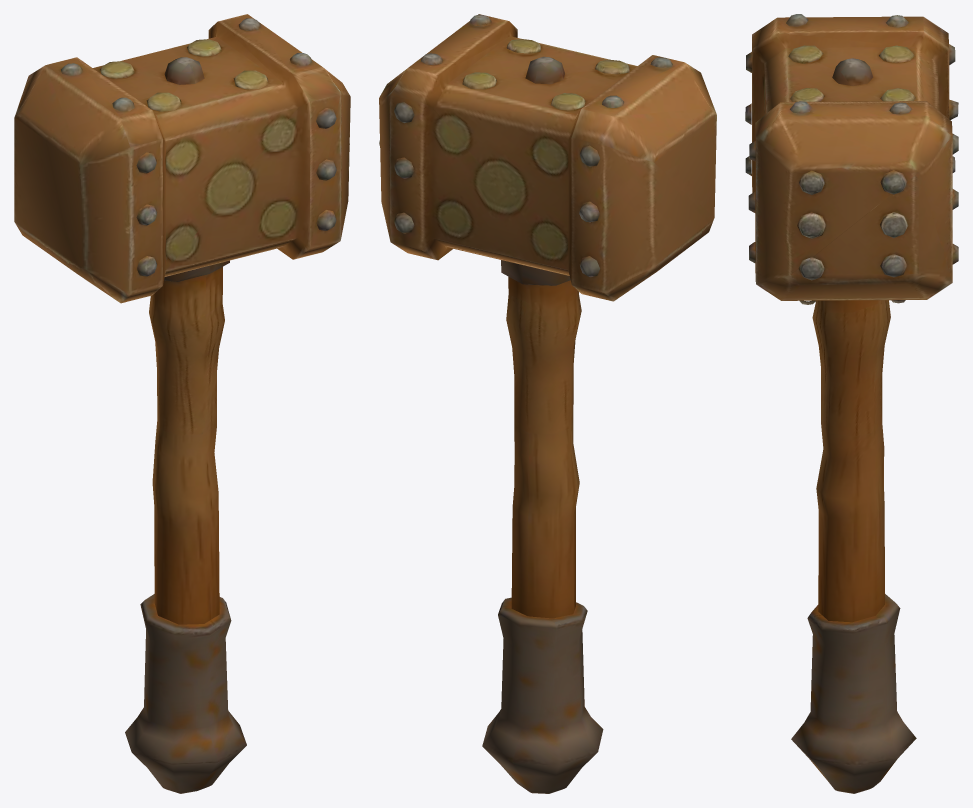
Rendered from hoard_forge_maul.glb.
3 renders of one model, left to right at view 1: azimuth 30°, elevation 25°; view 2: azimuth 150°, elevation 25°; view 3: azimuth 270°, elevation 25°, orthographic.
Parts seen in each view (by area): view 1: tripo_node_6766b5e8-8320-416a-bdcf-a1dc10b0a236; view 2: tripo_node_6766b5e8-8320-416a-bdcf-a1dc10b0a236; view 3: tripo_node_6766b5e8-8320-416a-bdcf-a1dc10b0a236.
Boxes of the visible parts, x1=… form: tripo_node_6766b5e8-8320-416a-bdcf-a1dc10b0a236: x1=14, y1=14, x2=350, y2=793; tripo_node_6766b5e8-8320-416a-bdcf-a1dc10b0a236: x1=379, y1=14, x2=716, y2=793; tripo_node_6766b5e8-8320-416a-bdcf-a1dc10b0a236: x1=745, y1=14, x2=958, y2=793.
Bounding box in the file's own units: 0.5844 × 1.45 × 0.3873.
Materials: 1 (1 with a texture image).
